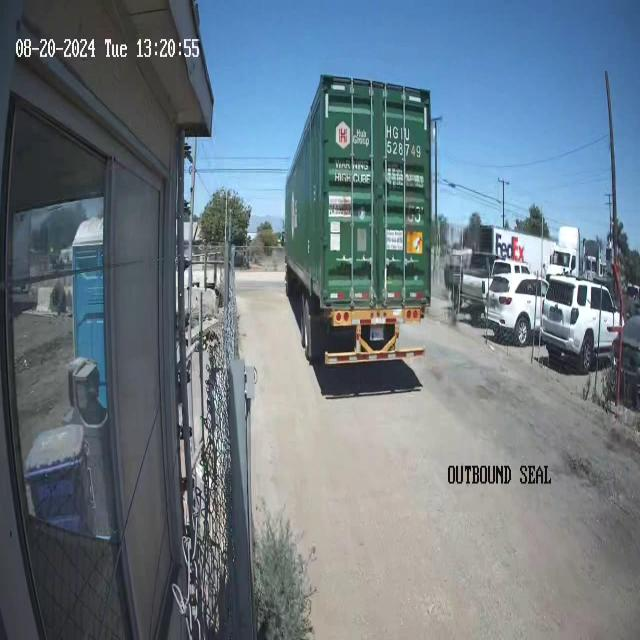TRUCK_CONTAINER: (283, 73, 433, 363)
